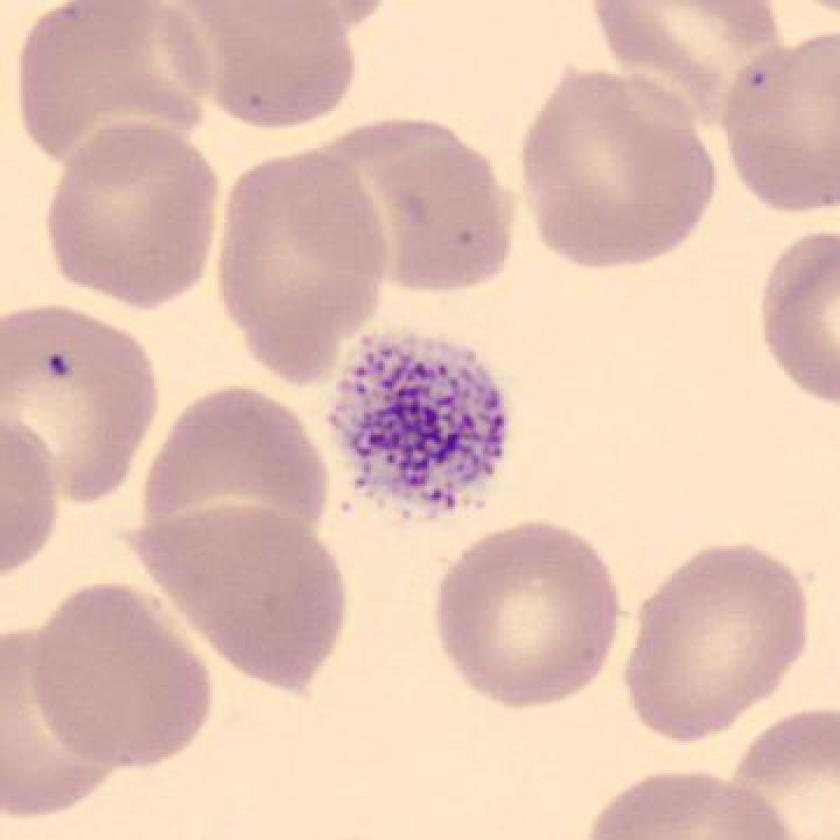platelets: (314, 314, 524, 536)
